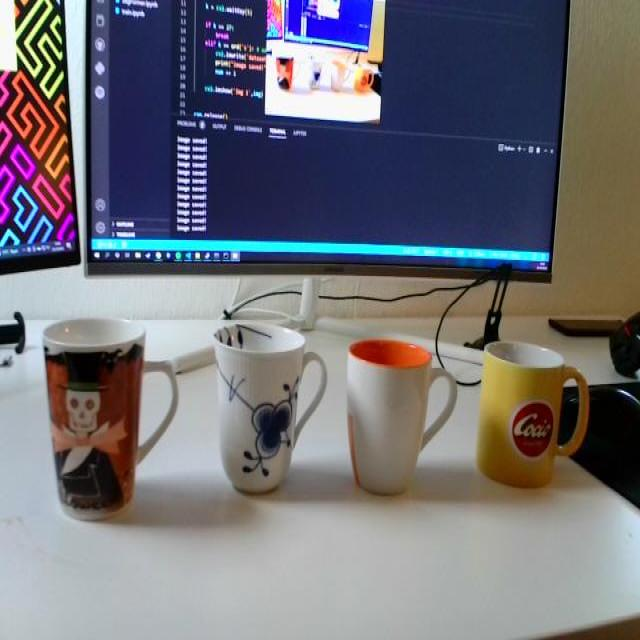cup: (36, 305, 182, 525), (204, 310, 331, 508), (469, 325, 591, 498), (342, 333, 458, 500)
